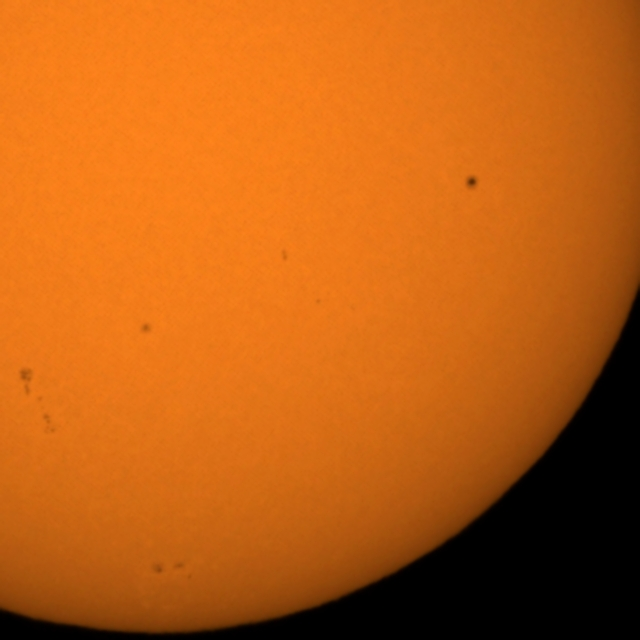sunspot: (18, 365, 45, 405), (150, 560, 193, 580), (17, 366, 36, 390), (40, 410, 58, 435), (463, 173, 480, 193), (138, 320, 154, 337), (279, 247, 290, 264), (313, 296, 323, 307)
